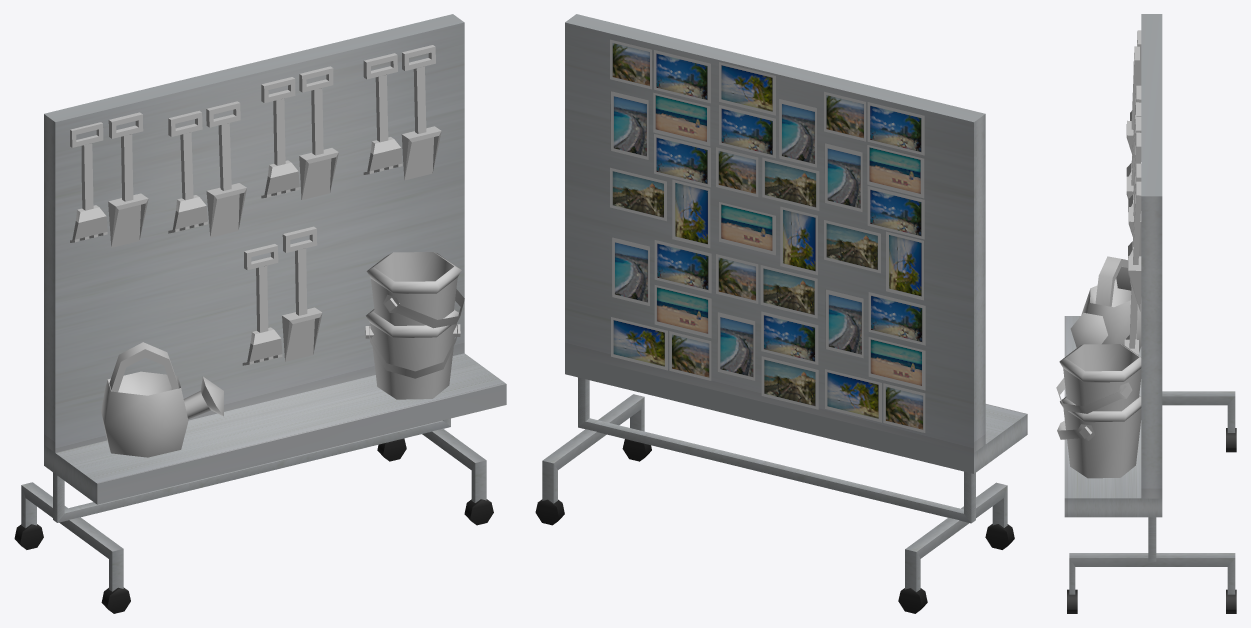
The model's file is Toy_Rack_01.FBX.
3 views of the same model, side by side, from view 1: azimuth 30°, elevation 25°; view 2: azimuth 150°, elevation 25°; view 3: azimuth 270°, elevation 25° (orthographic). The views are drawn at different scales.
Visible parts, largest first — view 1: Toy_Rack_01; view 2: Toy_Rack_01; view 3: Toy_Rack_01.
Boxes of the visible parts, x1=… form: Toy_Rack_01: x1=14, y1=14, x2=506, y2=613; Toy_Rack_01: x1=535, y1=14, x2=1027, y2=613; Toy_Rack_01: x1=1056, y1=14, x2=1236, y2=613.
Size of the model in its own units: 1.19 by 0.4995 by 1.3.
